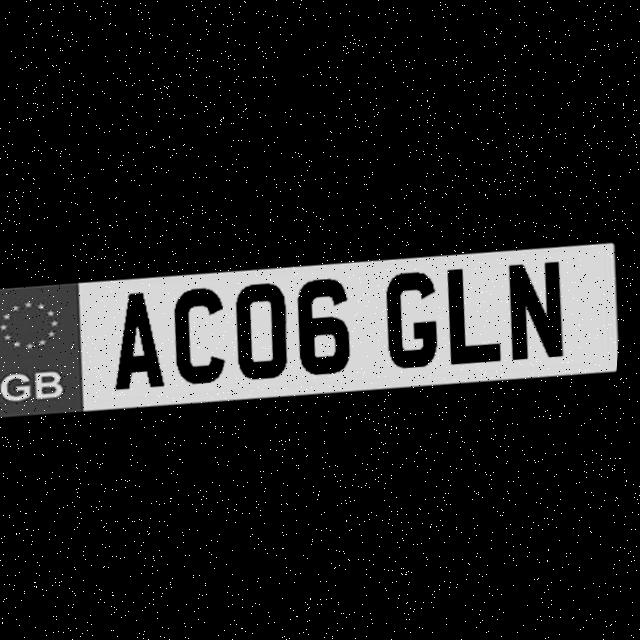license-plates: (0, 240, 620, 417)
